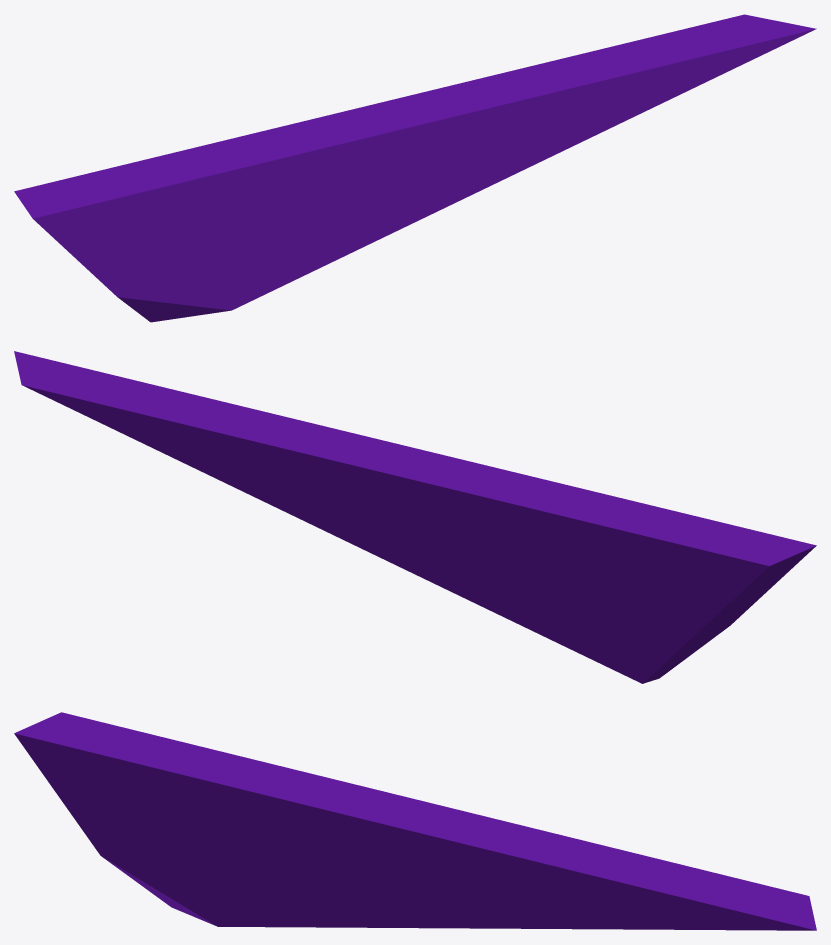
Rendered from Band_9_4_chunks.fbx.
The picture shows the model from 3 angles, top to bottom: view 1: azimuth 30°, elevation 25°; view 2: azimuth 150°, elevation 25°; view 3: azimuth 330°, elevation 25°; orthographic projection. The views are drawn at different scales.
Visible parts, largest first — view 1: Band_9_4_0; view 2: Band_9_4_0; view 3: Band_9_4_0.
Part boxes in pixels (bbox=[...]): Band_9_4_0: bbox=[14, 14, 816, 322]; Band_9_4_0: bbox=[14, 351, 816, 683]; Band_9_4_0: bbox=[14, 712, 816, 930].
Size of the model in its own units: 119 by 21.77 by 8.55.
